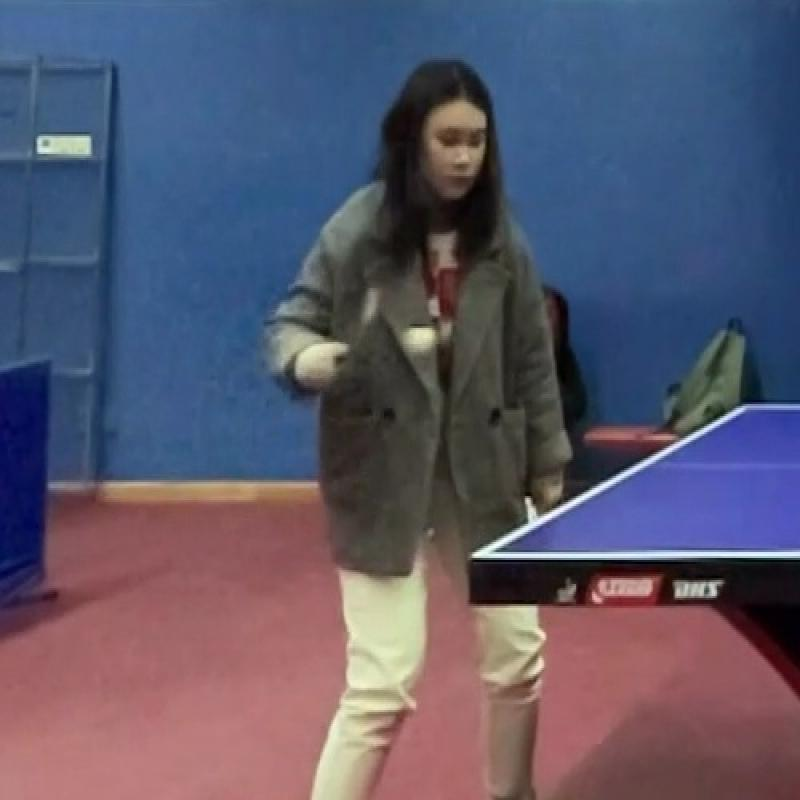bats: (300, 277, 406, 384)
